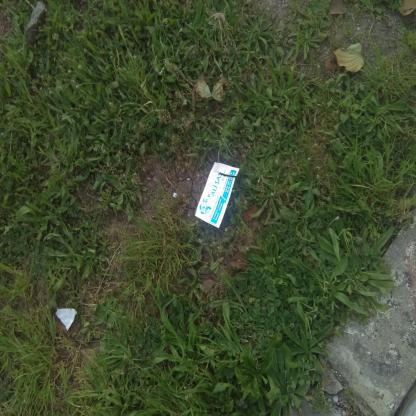kagit: (195, 162, 240, 230)
